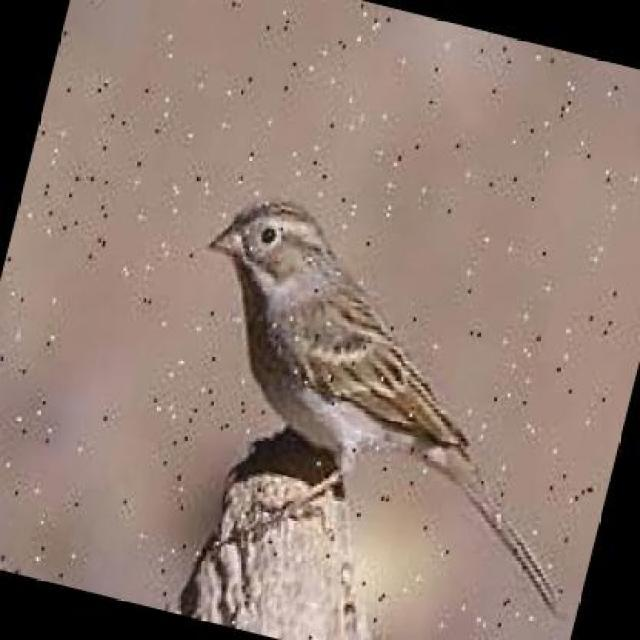Bird: (209, 204, 473, 516)
